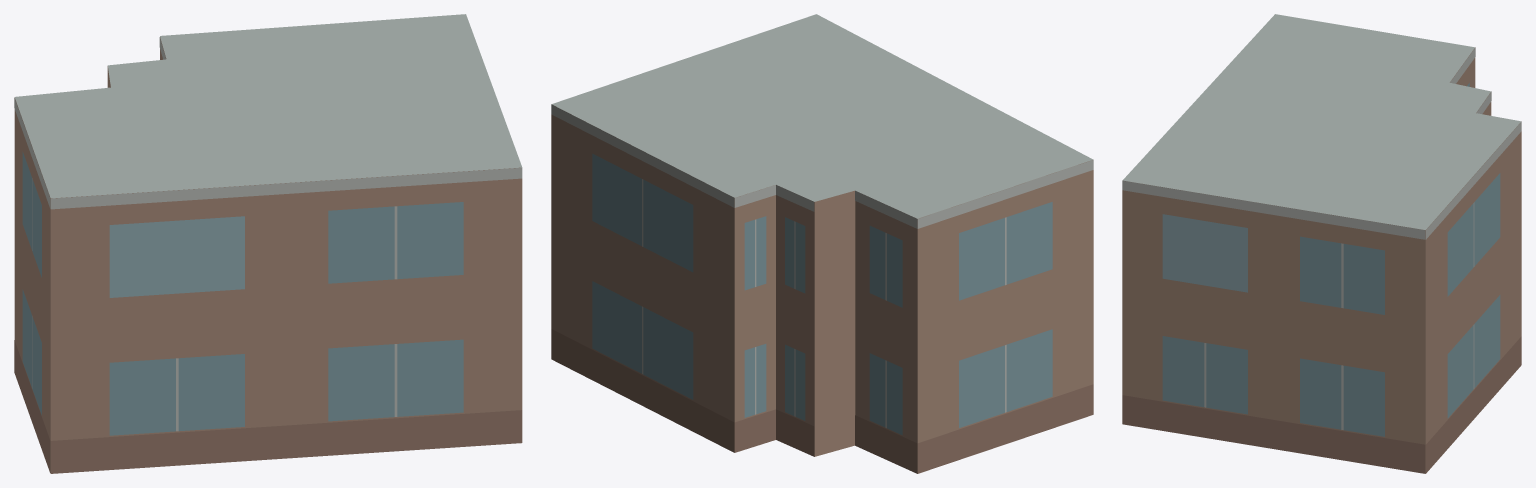
The model's file is survey-upis-32962534.glb.
3 renders of one model, left to right at view 1: azimuth 30°, elevation 25°; view 2: azimuth 150°, elevation 25°; view 3: azimuth 270°, elevation 25°, orthographic. The views are drawn at different scales.
Parts seen in each view (by area): view 1: survey-upis-32962534.tmp; view 2: survey-upis-32962534.tmp; view 3: survey-upis-32962534.tmp.
Part boxes in pixels (<box>): survey-upis-32962534.tmp: <box>14,14,522,473</box>; survey-upis-32962534.tmp: <box>551,14,1093,473</box>; survey-upis-32962534.tmp: <box>1122,14,1521,473</box>.
Size of the model in its own units: 11.61 by 6.1 by 9.07.
